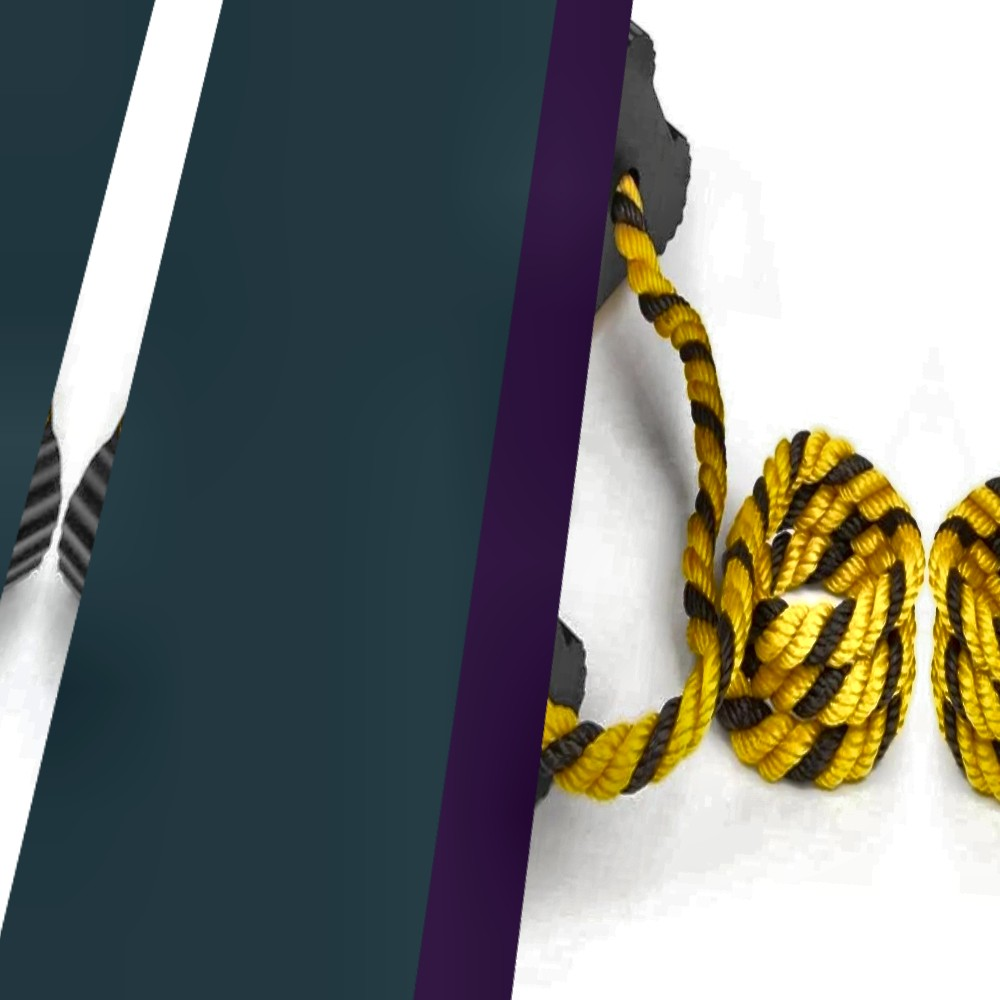chock: (0, 162, 709, 1000), (164, 0, 794, 460)
